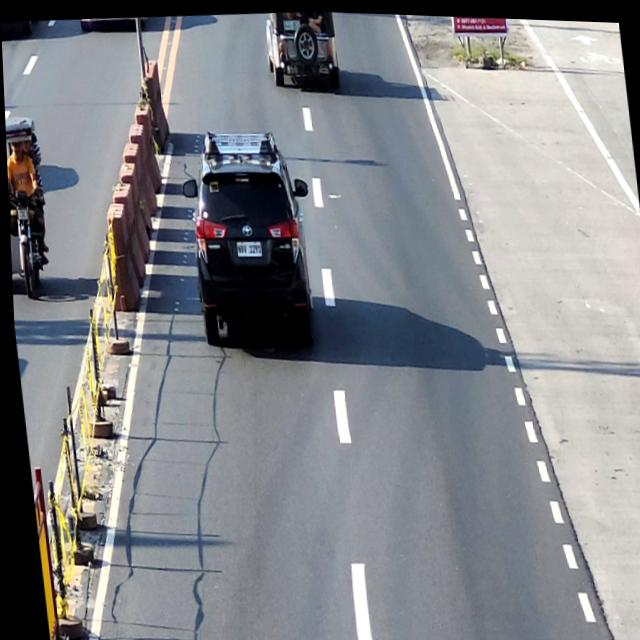Car: (175, 122, 322, 347), (262, 8, 341, 91)
License-Plate: (234, 239, 260, 256), (283, 17, 300, 29)
Tricycle: (4, 114, 52, 300)
